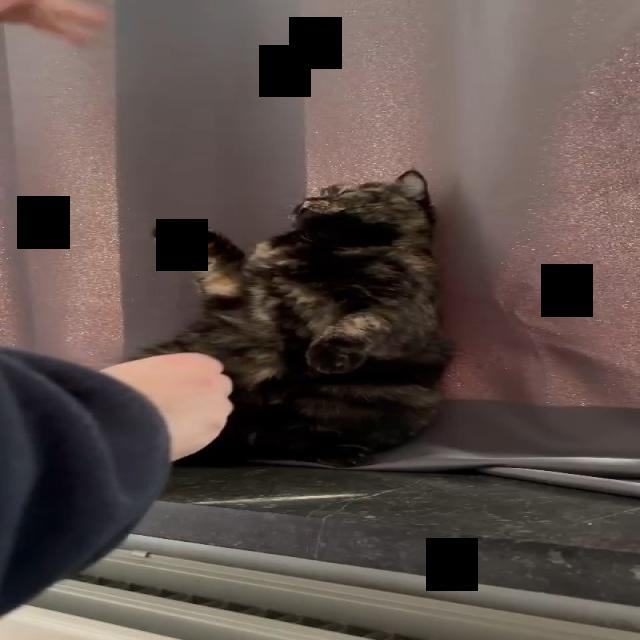authorized: (133, 167, 456, 468)
